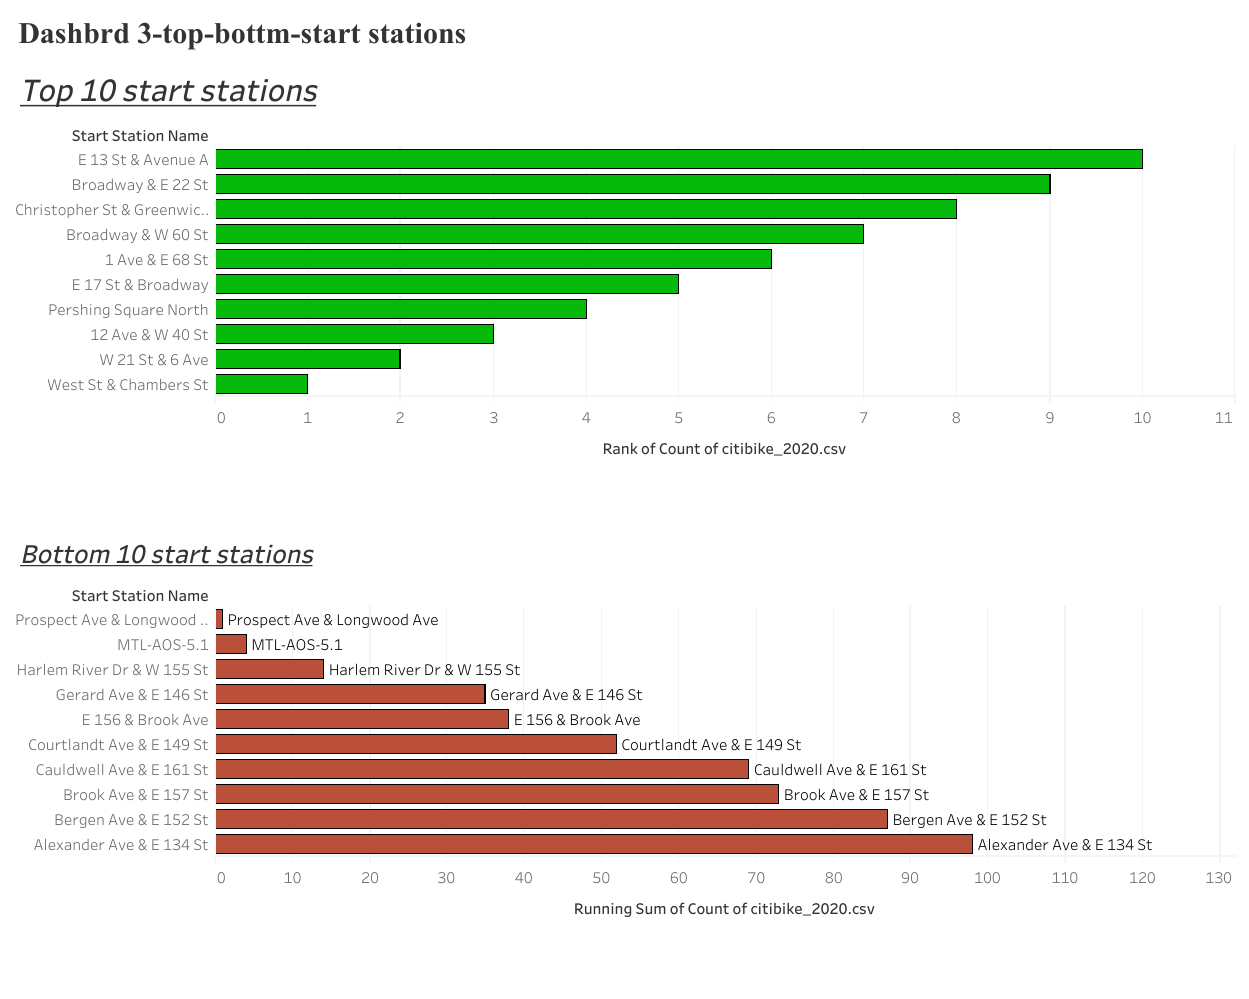

The dashboard page shown, as its layout file describes it:
{"tool":"tableau","page":{"name":"Dashbrd 3-top-bottm-start stations","canvas":[1000,800],"ordinal":2},"visuals":[{"type":"worksheet","box":[0,0,1000,800]},{"type":"worksheet","param":"vert","box":[8,8,984,784]},{"type":"worksheet","box":[8,8,984,42]},{"type":"worksheet","box":[8,50,984,742]},{"type":"worksheet","title":"Top 10 start stations","mark":"Automatic","rows":["start station name"],"box":[8,50,984,371]},{"type":"worksheet","title":"Bottom 10 start stations","mark":"Automatic","rows":["start station name"],"cols":["citibike_2020.csv_B8DCE2528DE24FDDB85F35A3190742DF"],"box":[8,421,984,371]}]}

Visuals, with their boxes in screenshot pixels (x1, y1, x2, y2), scaled from the page's 1000x800 canvas onto the 1249x999 screenshot:
worksheet: {"left": 0, "top": 0, "right": 1248, "bottom": 998}
worksheet: {"left": 10, "top": 10, "right": 1239, "bottom": 989}
worksheet: {"left": 10, "top": 10, "right": 1239, "bottom": 62}
worksheet: {"left": 10, "top": 62, "right": 1239, "bottom": 989}
"Top 10 start stations" worksheet: {"left": 10, "top": 62, "right": 1239, "bottom": 526}
"Bottom 10 start stations" worksheet: {"left": 10, "top": 526, "right": 1239, "bottom": 989}
